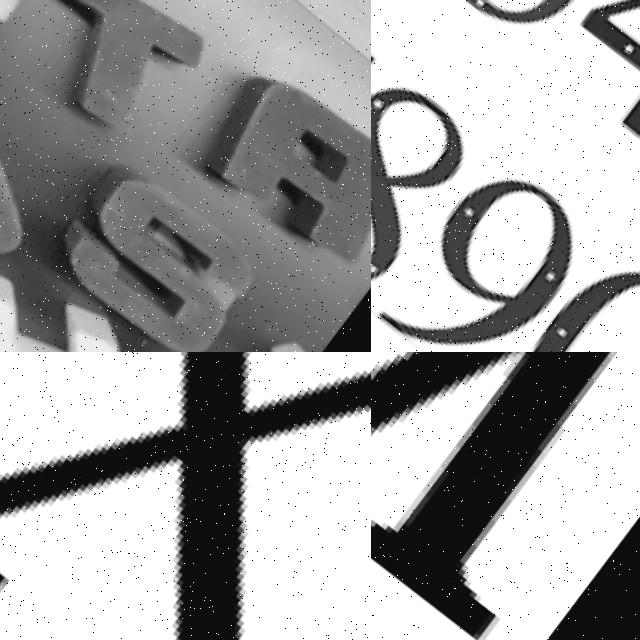0: (461, 238, 640, 352)
3: (417, 0, 640, 58)
4: (523, 0, 640, 161)
8: (371, 63, 489, 311)
9: (371, 152, 601, 352)
A: (170, 51, 371, 287)
G: (0, 12, 77, 301)
H: (0, 221, 195, 352)
M: (371, 352, 640, 640)
S: (20, 147, 260, 352)
T: (0, 0, 230, 169)
X: (0, 352, 371, 640)
Z: (113, 288, 307, 352)
